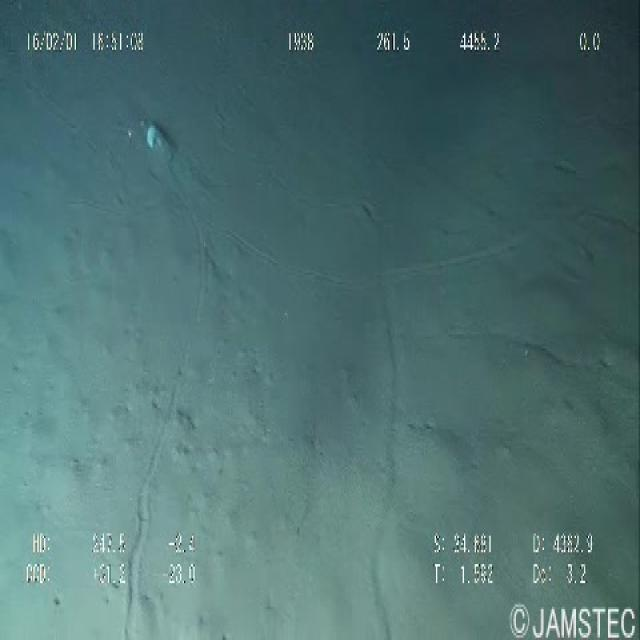plastic: (128, 104, 193, 173)
